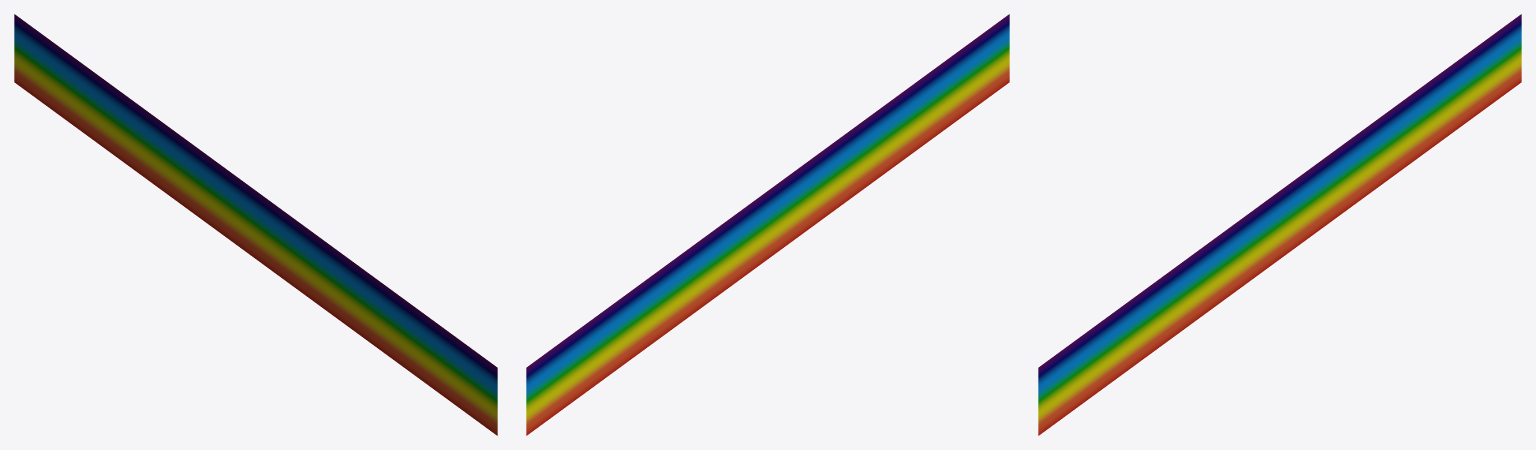
Rendered from Rainbow.fbx.
3 renders of one model, left to right at view 1: azimuth 30°, elevation 25°; view 2: azimuth 150°, elevation 25°; view 3: azimuth 330°, elevation 25°, orthographic.
Visible parts, largest first — view 1: Plane; view 2: Plane; view 3: Plane.
Part boxes in pixels (x1,y1,x2,y2): Plane: [14, 14, 497, 435]; Plane: [526, 14, 1009, 435]; Plane: [1038, 14, 1521, 435].
Size of the model in its own units: 1.15e-15 by 3.13 by 40.
1 material, 1 textured.
